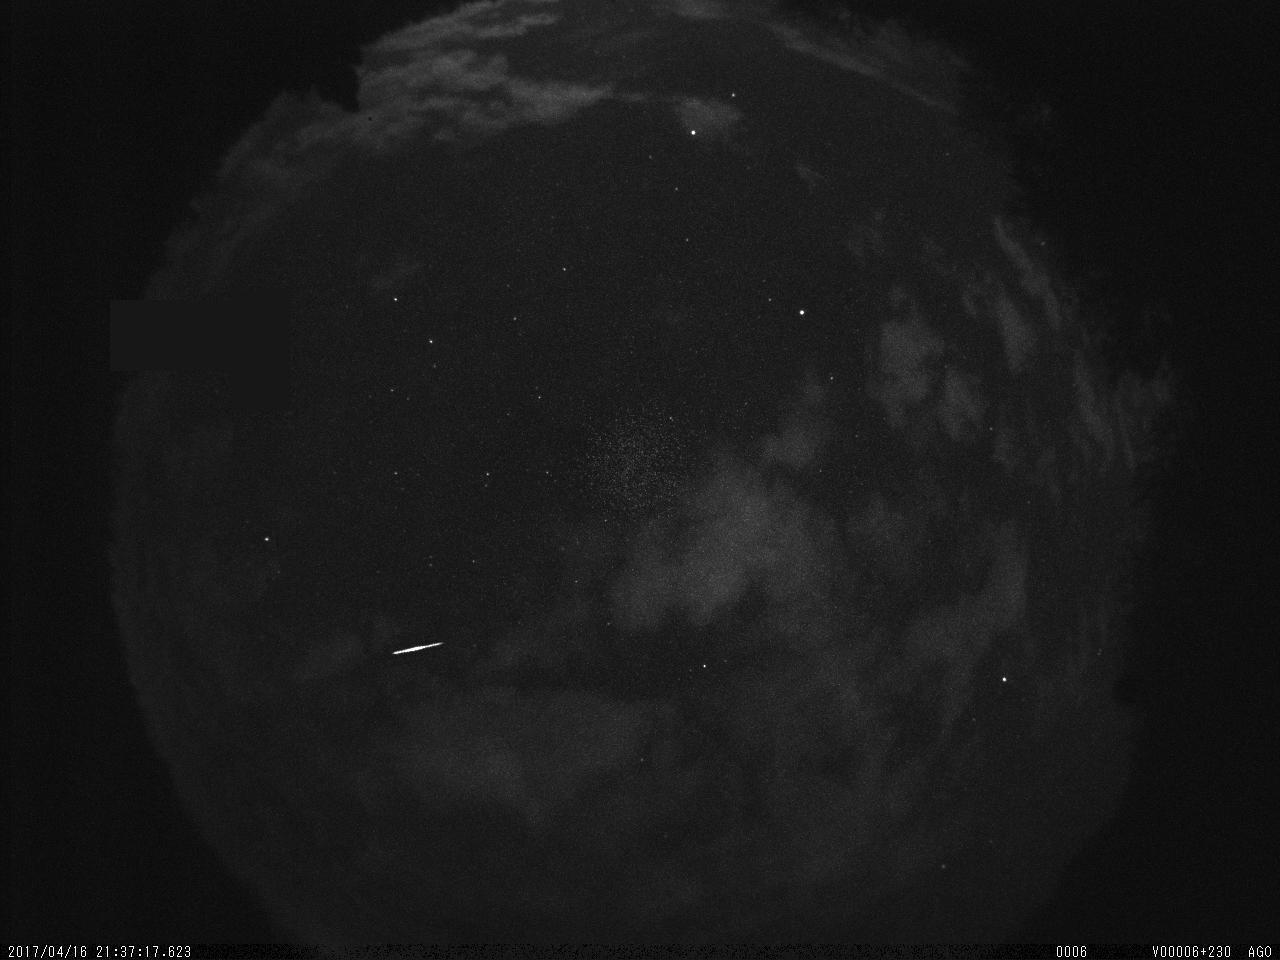Meteor: (387, 638, 444, 657)
